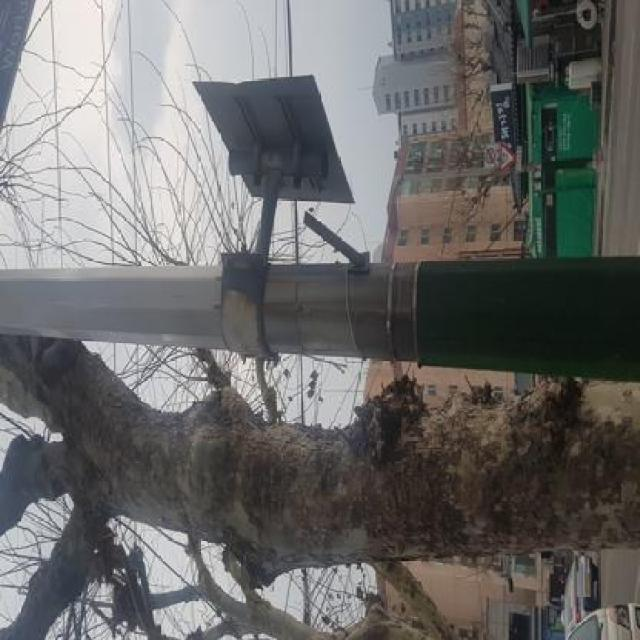pole: (7, 230, 640, 392)
